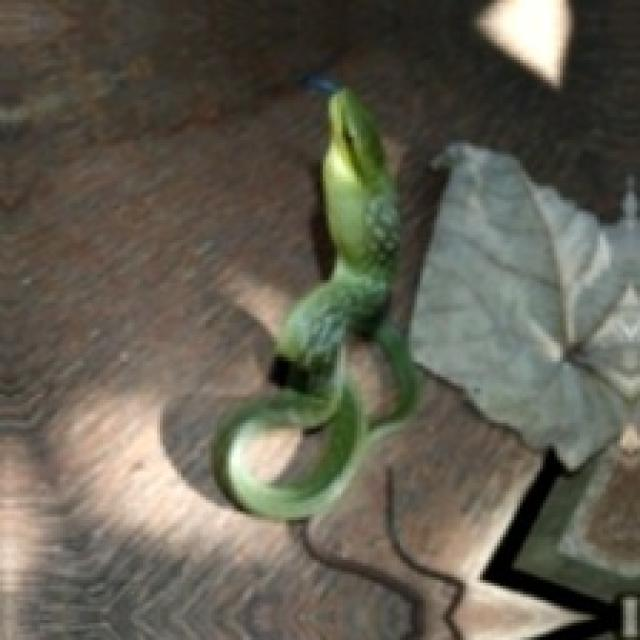red-tailed green ratsnake: (211, 89, 414, 517)
